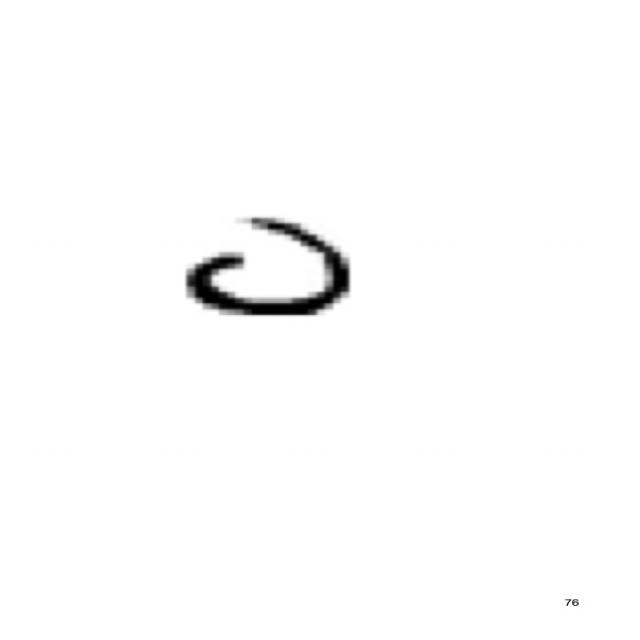5 -five-: (172, 204, 361, 324)
